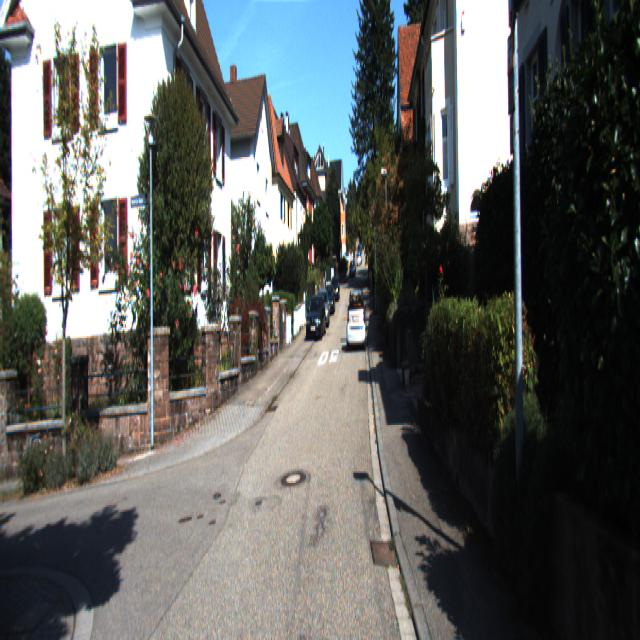Car: (346, 288, 366, 352), (305, 294, 327, 340)
